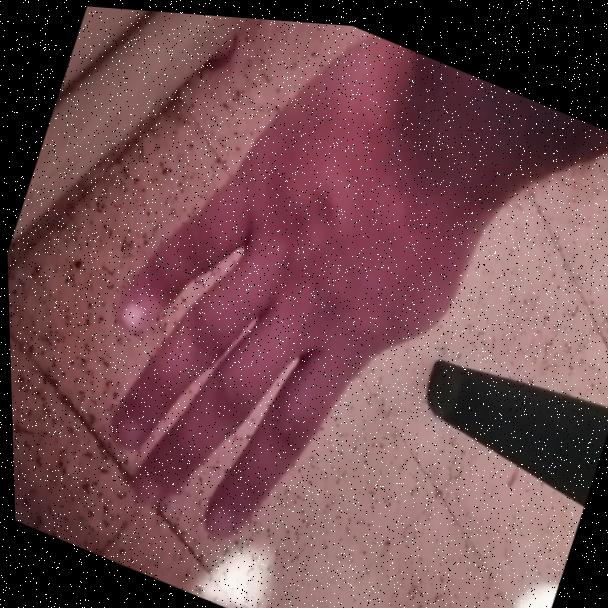four: (21, 1, 556, 608)
